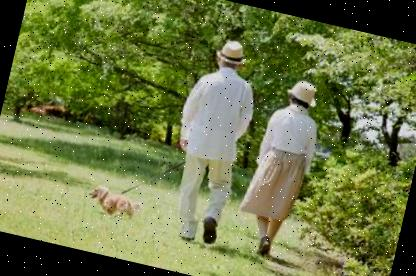person: (150, 26, 278, 254), (224, 66, 338, 267)
